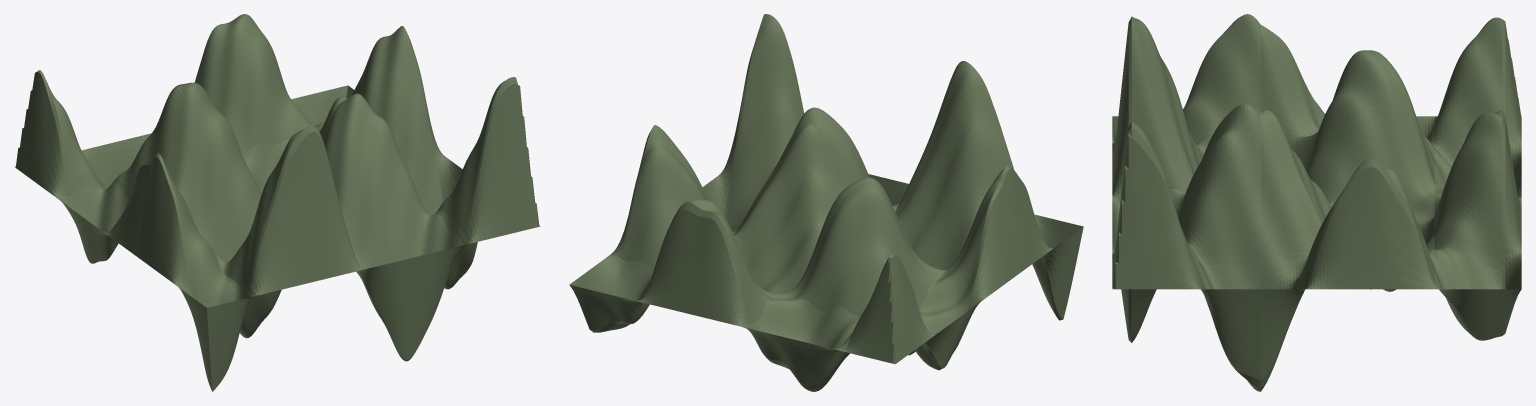
The model's file is sapphire_coral_spurs.obj.
3 renders of one model, left to right at view 1: azimuth 30°, elevation 25°; view 2: azimuth 150°, elevation 25°; view 3: azimuth 270°, elevation 25°, orthographic. The views are drawn at different scales.
Parts seen in each view (by area): view 1: sapphire_coral_spurs; view 2: sapphire_coral_spurs; view 3: sapphire_coral_spurs.
Part boxes in pixels (x1,y1,x2,y2): sapphire_coral_spurs: [14, 14, 540, 391]; sapphire_coral_spurs: [569, 14, 1083, 391]; sapphire_coral_spurs: [1112, 14, 1521, 391].
Size of the model in its own units: 28 by 20.81 by 28.
